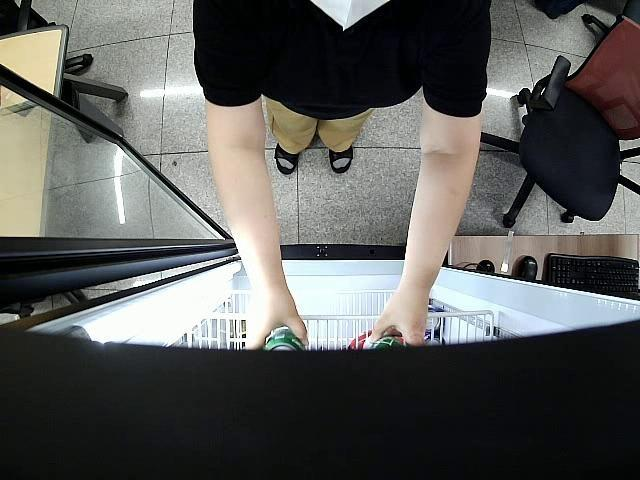12_chilsungCider: (264, 329, 305, 352), (368, 334, 408, 349)
